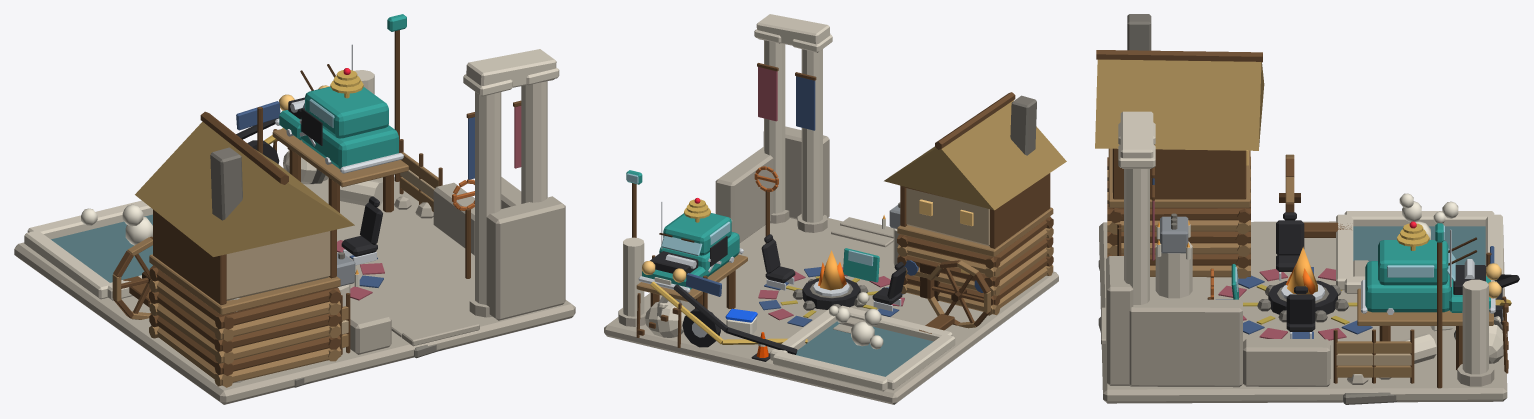
File: hearth_l3.fbx
The picture shows the model from 3 angles, left to right: view 1: azimuth 30°, elevation 25°; view 2: azimuth 150°, elevation 25°; view 3: azimuth 270°, elevation 25°; orthographic projection. The views are drawn at different scales.
Parts seen in each view (by area): view 1: Ruin, TimeMachine, Stilts, Steam; view 2: Ruin, TimeMachine, Stilts, Hoses, Steam, Fire; view 3: Ruin, TimeMachine, Stilts, Steam, Fire.
Boxes of the visible parts, <box> form: Ruin: <box>14,14,575,404</box>; TimeMachine: <box>275,44,403,173</box>; Stilts: <box>272,128,408,212</box>; Steam: <box>81,204,152,245</box>; Ruin: <box>604,14,1066,404</box>; TimeMachine: <box>638,198,743,292</box>; Stilts: <box>636,254,747,347</box>; Hoses: <box>650,281,807,354</box>; Steam: <box>829,292,883,349</box>; Fire: <box>818,250,846,290</box>; Ruin: <box>1095,14,1507,404</box>; TimeMachine: <box>1361,221,1501,314</box>; Stilts: <box>1357,288,1508,373</box>; Steam: <box>1399,193,1458,239</box>; Fire: <box>1286,247,1317,294</box>.
Bounding box in the file's own units: 3.84 × 3.89 × 2.56.
